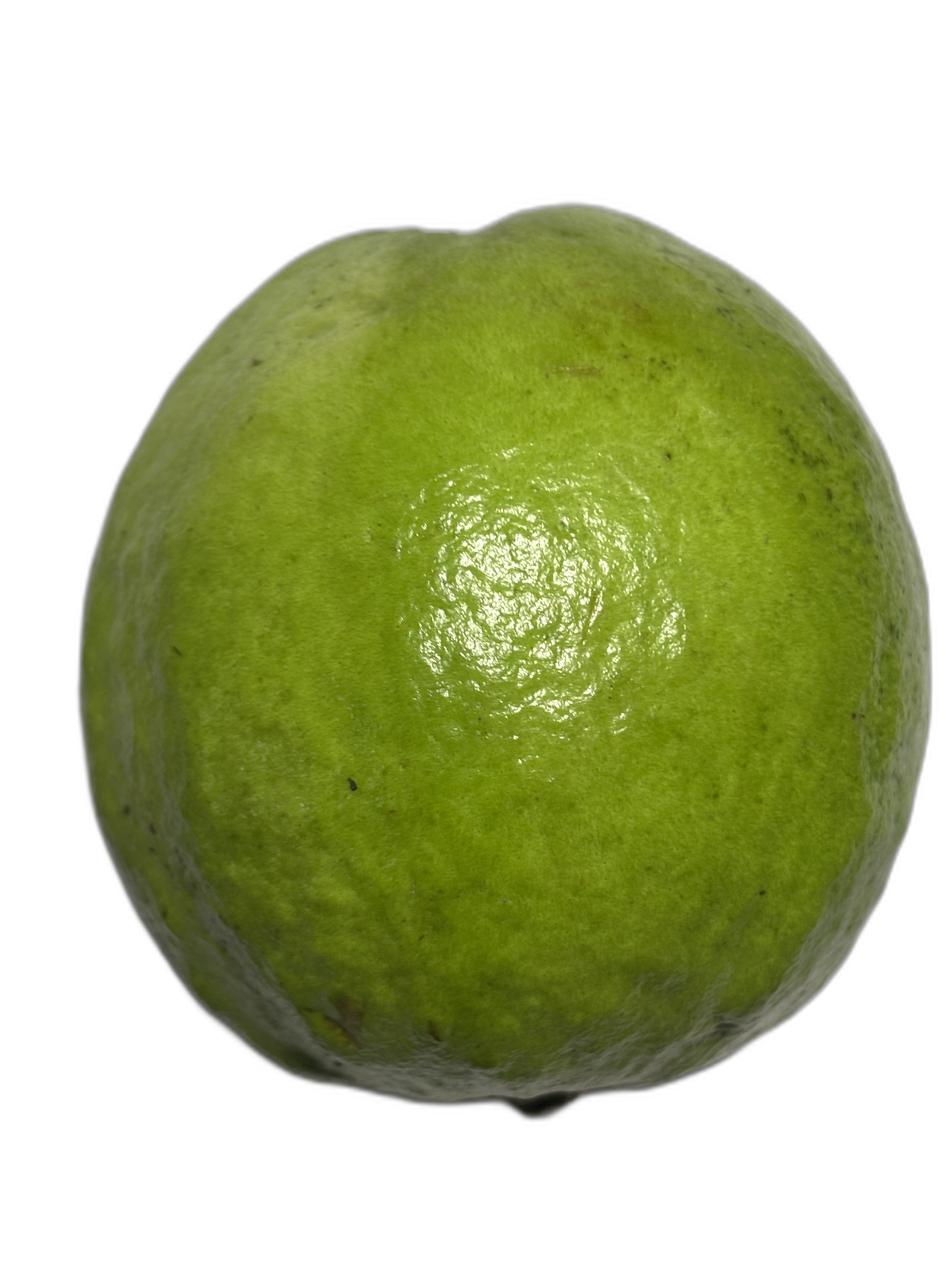guava: (191, 74, 949, 1015)
